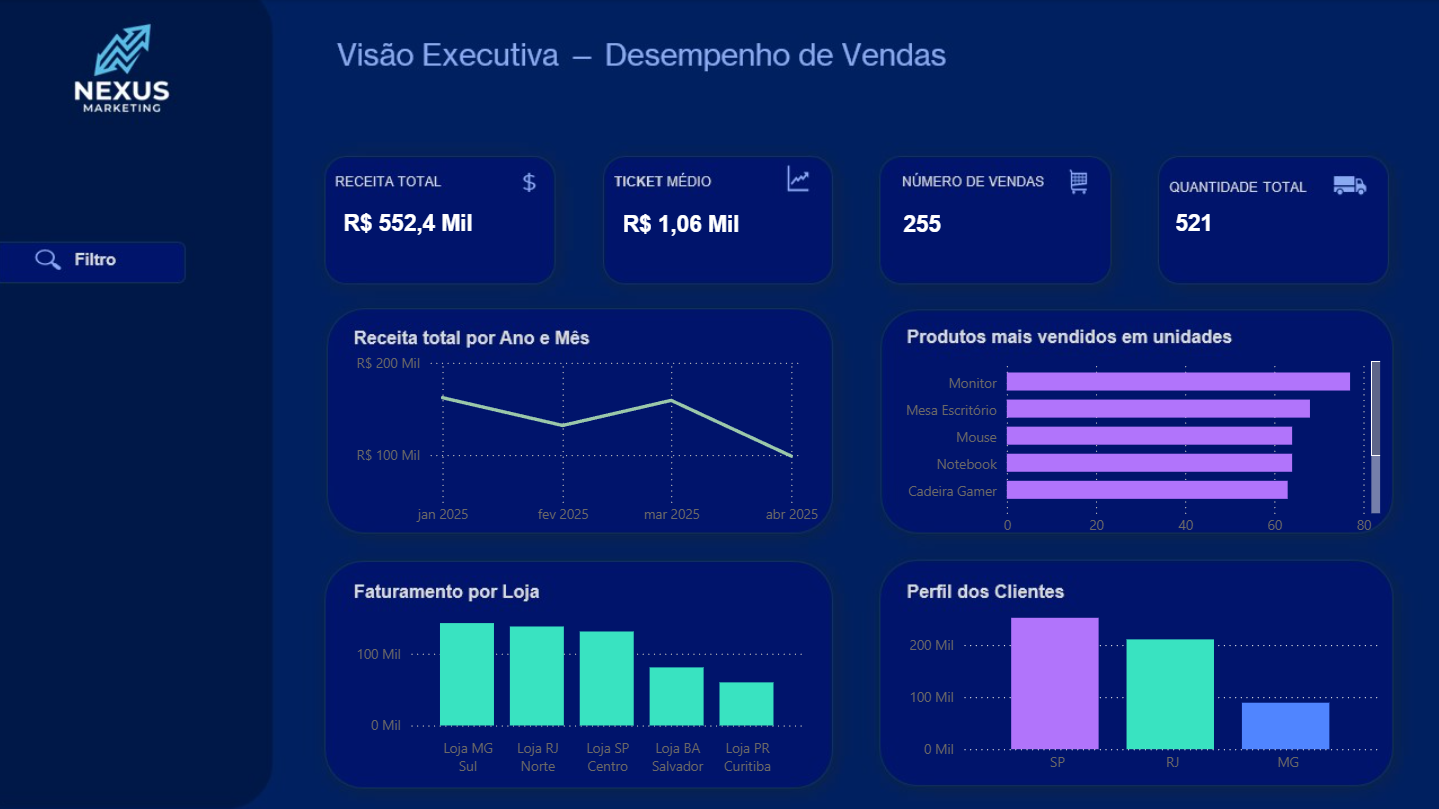

This screenshot's page, from the dashboard's own definition file:
{"tool":"powerbi","page":{"name":"Página 1","canvas":[1280,720],"ordinal":0},"visuals":[{"type":"card","title":"Receita total","fields":{"Values":["varejo_analise vendas.Receita Total"]},"box":[288.2,170.2,152.5,57.6],"z":0},{"type":"card","title":"TICKET Médio","fields":{"Values":["varejo_analise vendas.TICKET Médio"]},"box":[532,169.4,149,60.3],"z":1000},{"type":"card","title":"Numero de Vendas","fields":{"Values":["varejo_analise vendas.Número de vendas"]},"box":[785.6,173.8,69.2,51.4],"z":2000},{"type":"card","title":"Quantidade Total","fields":{"Values":["varejo_analise vendas.Quantidade Total"]},"box":[1024.1,180,74.5,38.1],"z":3000},{"type":"lineChart","fields":{"Y":["varejo_analise vendas.Receita Total"],"Category":["varejo_analise vendas.data_venda.Variation.Hierarquia de datas.Ano","varejo_analise vendas.data_venda.Variation.Hierarquia de datas.Mês"]},"box":[313,307.7,420.3,166.7],"z":4000},{"type":"barChart","title":"Produtos mais vendidos (em unidades)","fields":{"Category":["varejo_analise produtos.nome_produto"],"Y":["varejo_analise vendas.Quantidade Total"]},"box":[779.4,307.7,452.2,176.5],"z":5000},{"type":"columnChart","title":"Faturamento por Loja”","fields":{"Category":["varejo_analise lojas.nome_loja"],"Y":["Sum(varejo_analise vendas.receita)"]},"box":[313,533.8,407,160.5],"z":6000},{"type":"columnChart","title":"Perfil dos Clientes","fields":{"Category":["varejo_analise clientes.estado"],"Y":["varejo_analise vendas.Receita Total"]},"box":[803.3,533.8,428.3,160.5],"z":7000},{"type":"actionButton","box":[0,202.2,170.2,55],"z":12000}]}

Visuals, with their boxes in screenshot pixels (x1, y1, x2, y2), scaled from the page's 1280x720 canvas onto the 1439x809 screenshot:
"Receita total" card: box(324, 191, 495, 256)
"TICKET Médio" card: box(598, 190, 766, 258)
"Numero de Vendas" card: box(883, 195, 961, 253)
"Quantidade Total" card: box(1151, 202, 1235, 245)
lineChart - varejo_analise vendas.Receita Total x varejo_analise vendas.data_venda.Variation.Hierarquia de datas.Ano: box(352, 346, 824, 533)
"Produtos mais vendidos (em unidades)" barChart: box(876, 346, 1385, 544)
"Faturamento por Loja”" columnChart: box(352, 600, 809, 780)
"Perfil dos Clientes" columnChart: box(903, 600, 1385, 780)
actionButton: box(0, 227, 191, 289)
